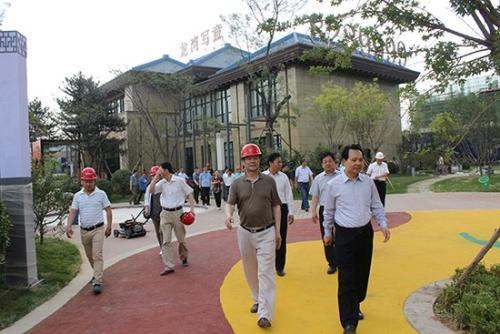boots: (257, 318, 271, 328), (343, 324, 356, 334), (160, 267, 174, 274), (93, 283, 102, 293), (327, 264, 336, 273), (250, 303, 258, 313), (182, 257, 188, 266), (358, 311, 364, 320), (277, 269, 285, 275)
hard-hat: (240, 143, 262, 159), (79, 167, 97, 180), (180, 211, 196, 225), (150, 166, 160, 175), (375, 152, 384, 159)
person: (321, 144, 391, 334), (224, 143, 283, 328), (66, 166, 112, 294), (149, 162, 195, 276), (261, 152, 295, 276), (309, 153, 343, 274), (143, 166, 164, 256), (366, 151, 390, 207), (295, 158, 314, 210), (437, 153, 444, 174)
